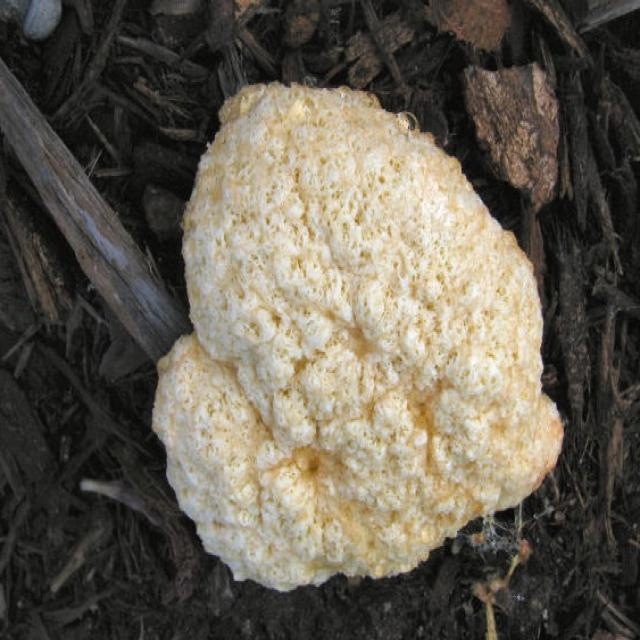Dog_vomit_slime_mold: (104, 67, 582, 600)
